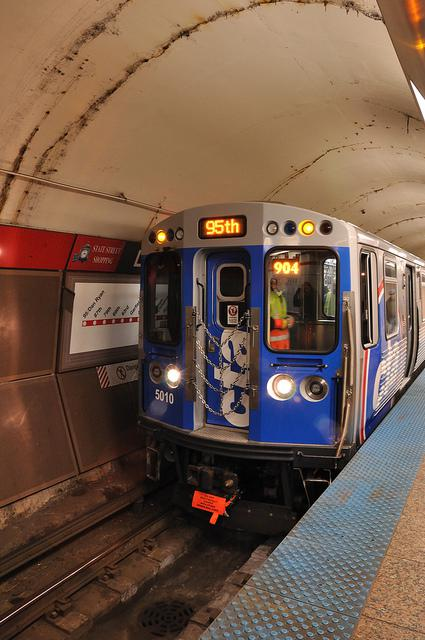Train: (139, 195, 425, 503)
